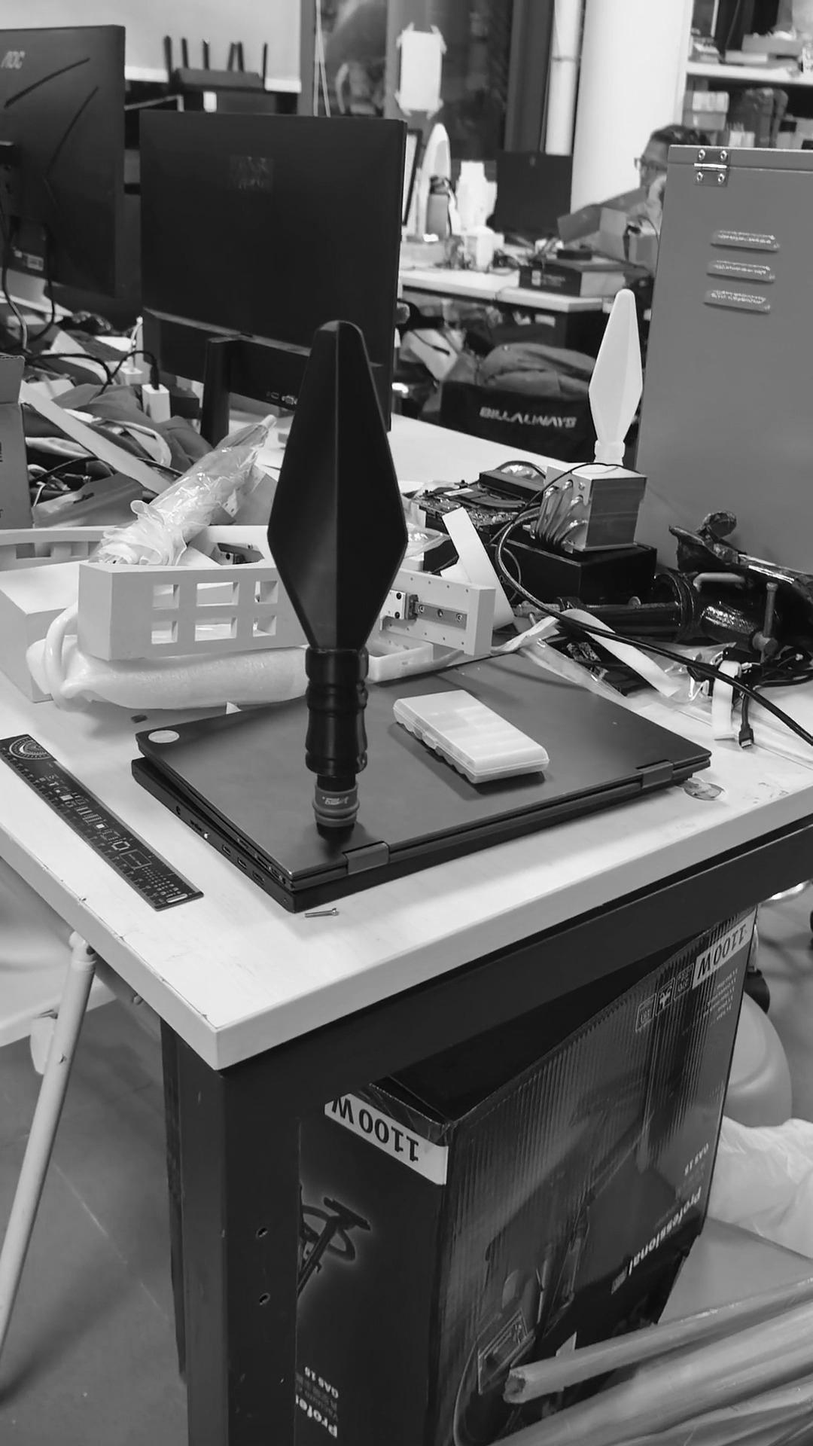base: (306, 781, 364, 842)
